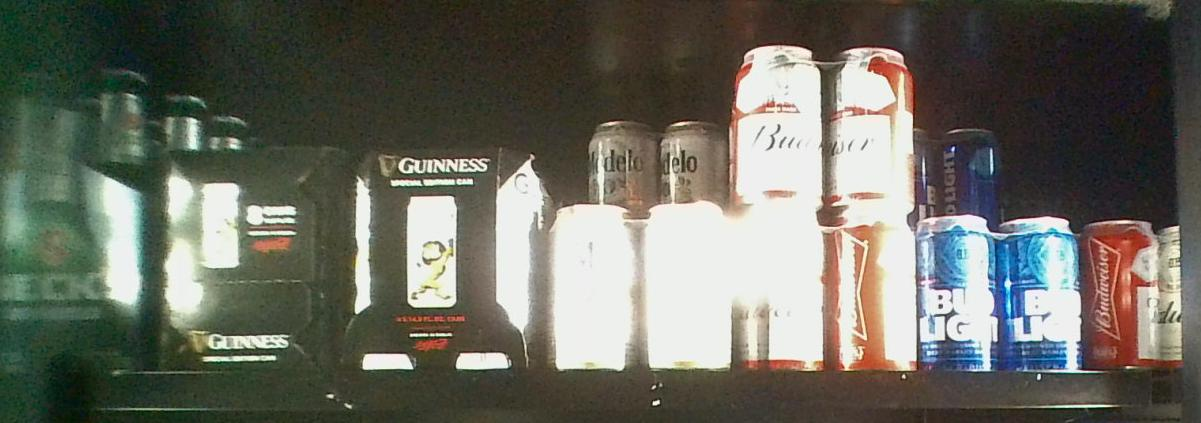bottle: (733, 44, 917, 368), (347, 148, 550, 372), (154, 143, 342, 369), (550, 203, 735, 369), (914, 213, 1078, 372)
